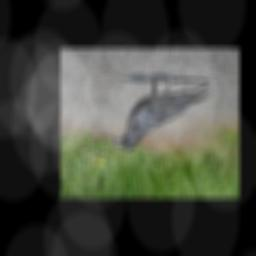Crow: (110, 70, 216, 152)
